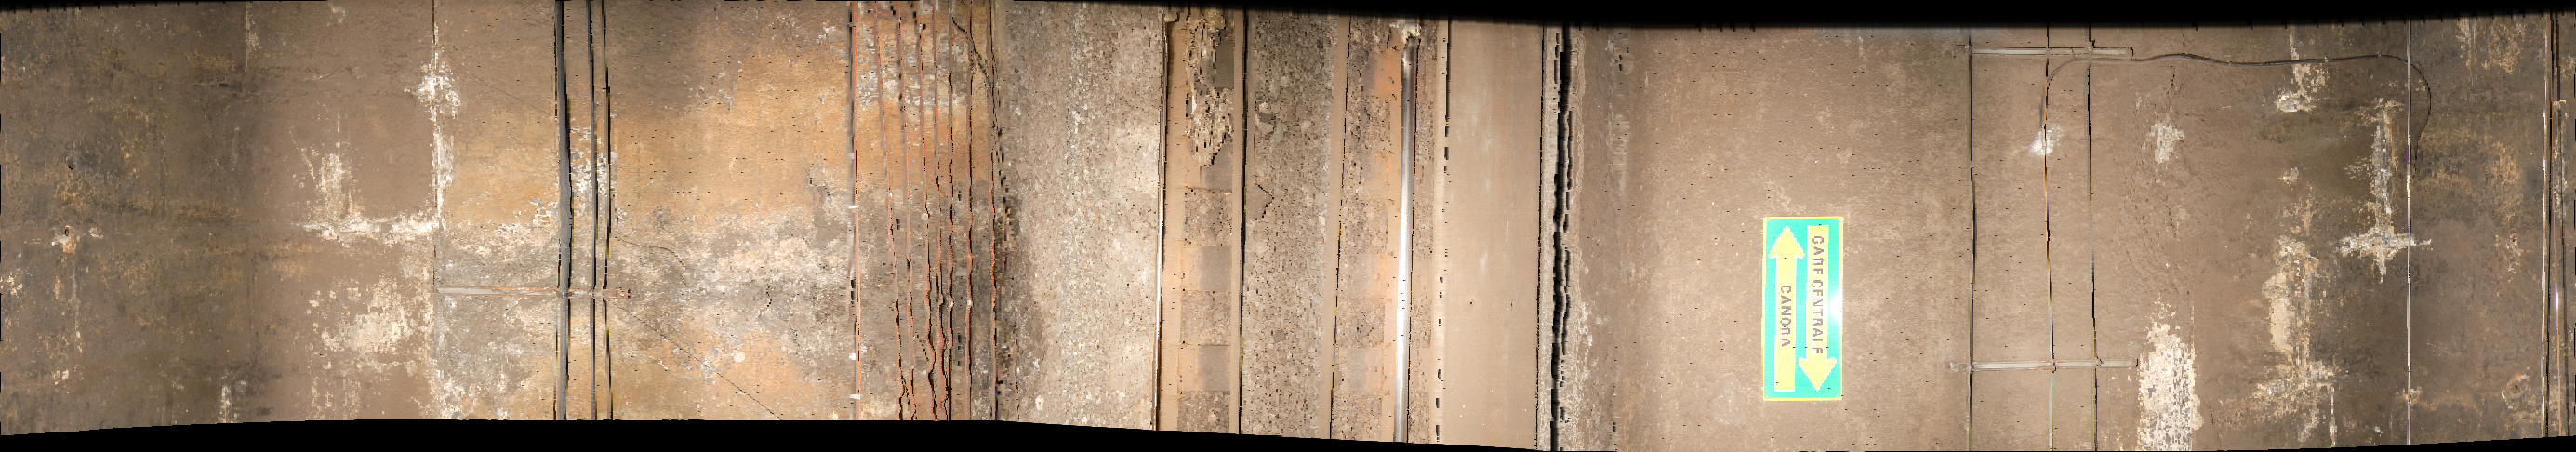pipes: (555, 3, 621, 436), (2543, 12, 2573, 452), (2081, 28, 2106, 452), (1963, 23, 1983, 452), (2405, 18, 2418, 452)
sign: (1764, 217, 1842, 403)
tracks: (1142, 2, 1574, 452)
